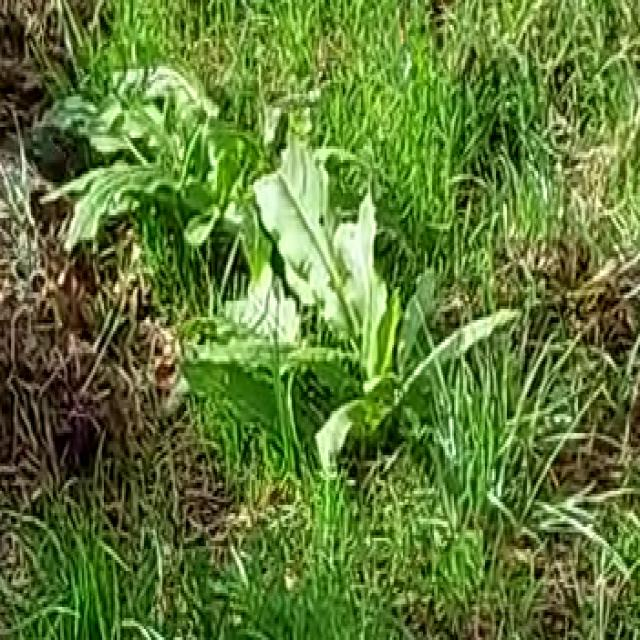organic waste: (212, 162, 459, 460), (71, 44, 277, 270)
